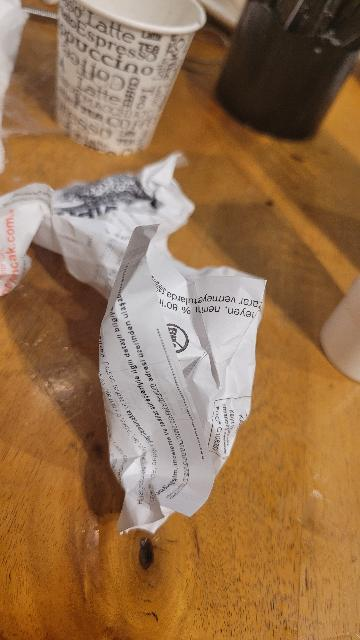Kagit: (0, 136, 276, 545), (51, 0, 210, 158)
